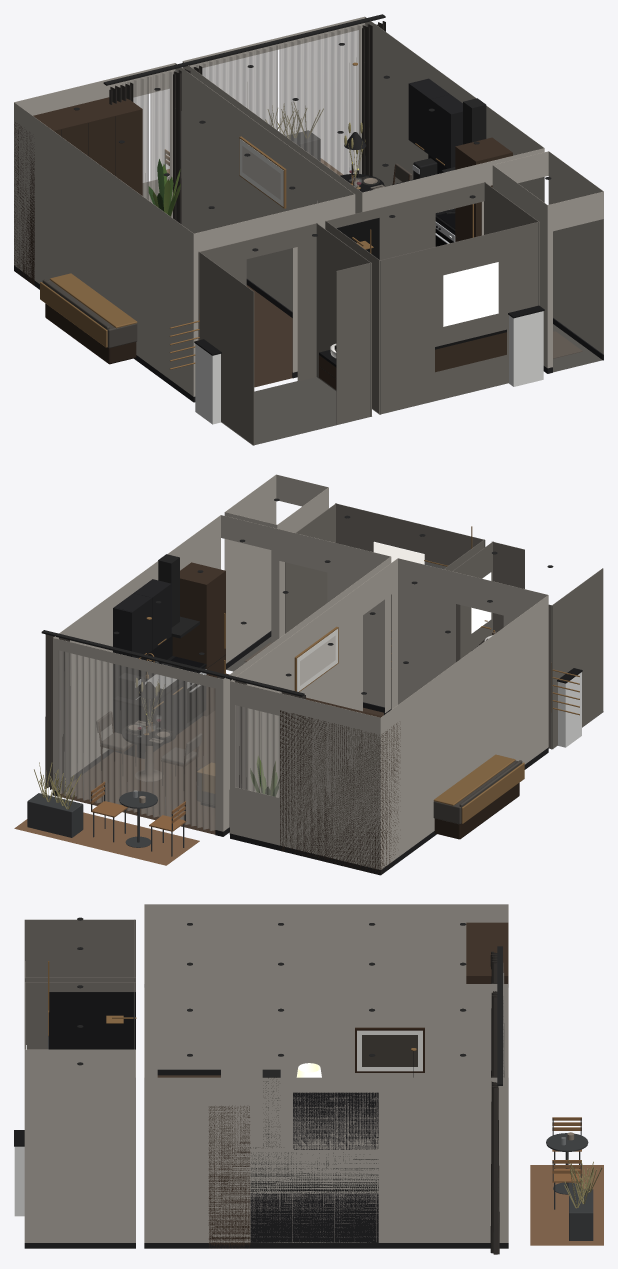
The model's file is unit-1.A-noir.glb.
The picture shows the model from 3 angles, top to bottom: view 1: azimuth 30°, elevation 25°; view 2: azimuth 150°, elevation 25°; view 3: azimuth 270°, elevation 25°; orthographic projection. The views are drawn at different scales.
Parts seen in each view (by area): view 1: int-wall, int-bathWall, int-sheer, int-joineryTall, int-joinery, int-bathFloor, int-whiteGloss, int-curtain, int-matteBlack, int-floor, int-ledStrip, int-bedThrow (+8 smaller); view 2: int-wall, int-sheer, int-bathWall, int-joineryTall, int-joinery, int-floor, int-curtain, int-matteBlack, int-deck, int-outdoor, int-bedThrow, int-worktop (+12 smaller); view 3: int-wall, int-joinery, int-bathWall, int-joineryTall, int-showerWall, int-deck, int-curtain, int-outdoor, int-matteBlack, int-splash, int-art:7:0, int-teak (+4 smaller).
Boxes of the visible parts, bbox=[...] form: int-wall: bbox=[14, 16, 603, 396]; int-bathWall: bbox=[198, 182, 539, 445]; int-sheer: bbox=[122, 23, 365, 217]; int-joineryTall: bbox=[14, 97, 512, 389]; int-joinery: bbox=[14, 78, 603, 402]; int-bathFloor: bbox=[221, 377, 508, 445]; int-whiteGloss: bbox=[195, 311, 543, 424]; int-curtain: bbox=[109, 21, 385, 224]; int-matteBlack: bbox=[103, 14, 486, 214]; int-floor: bbox=[246, 285, 292, 387]; int-ledStrip: bbox=[443, 235, 498, 326]; int-bedThrow: bbox=[40, 273, 137, 347]; int-wall: bbox=[53, 474, 548, 869]; int-sheer: bbox=[58, 650, 279, 830]; int-bathWall: bbox=[285, 503, 603, 749]; int-joineryTall: bbox=[172, 562, 400, 874]; int-joinery: bbox=[53, 579, 548, 875]; int-floor: bbox=[60, 673, 383, 834]; int-curtain: bbox=[45, 634, 305, 834]; int-matteBlack: bbox=[41, 554, 304, 758]; int-deck: bbox=[14, 812, 199, 865]; int-outdoor: bbox=[27, 783, 185, 856]; int-bedThrow: bbox=[433, 754, 524, 823]; int-worktop: bbox=[113, 646, 582, 745]; int-wall: bbox=[24, 904, 508, 1242]; int-joinery: bbox=[24, 1069, 508, 1248]; int-bathWall: bbox=[24, 919, 135, 1049]; int-joineryTall: bbox=[208, 922, 508, 1248]; int-showerWall: bbox=[48, 992, 135, 1049]; int-deck: bbox=[530, 1165, 603, 1245]; int-curtain: bbox=[490, 951, 499, 1254]; int-outdoor: bbox=[546, 1118, 593, 1240]; int-matteBlack: bbox=[250, 946, 502, 1248]; int-splash: bbox=[250, 1152, 378, 1191]; int-art:7:0: bbox=[362, 1035, 417, 1066]; int-teak: bbox=[552, 1117, 581, 1182].
Size of the model in its own units: 6.62 by 2.8 by 8.41.
